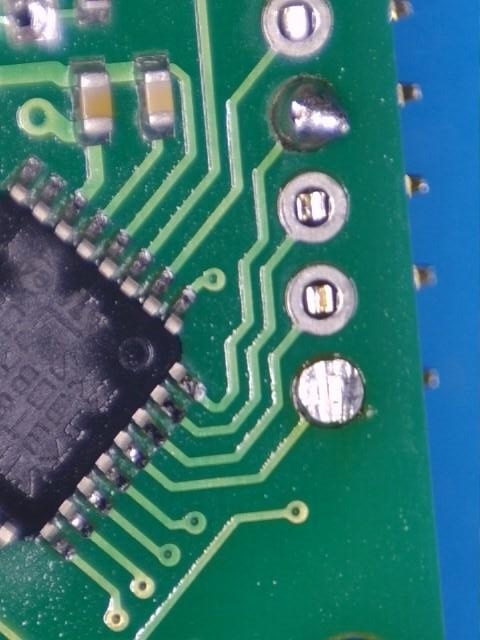pcb_defect: (274, 80, 350, 150)
